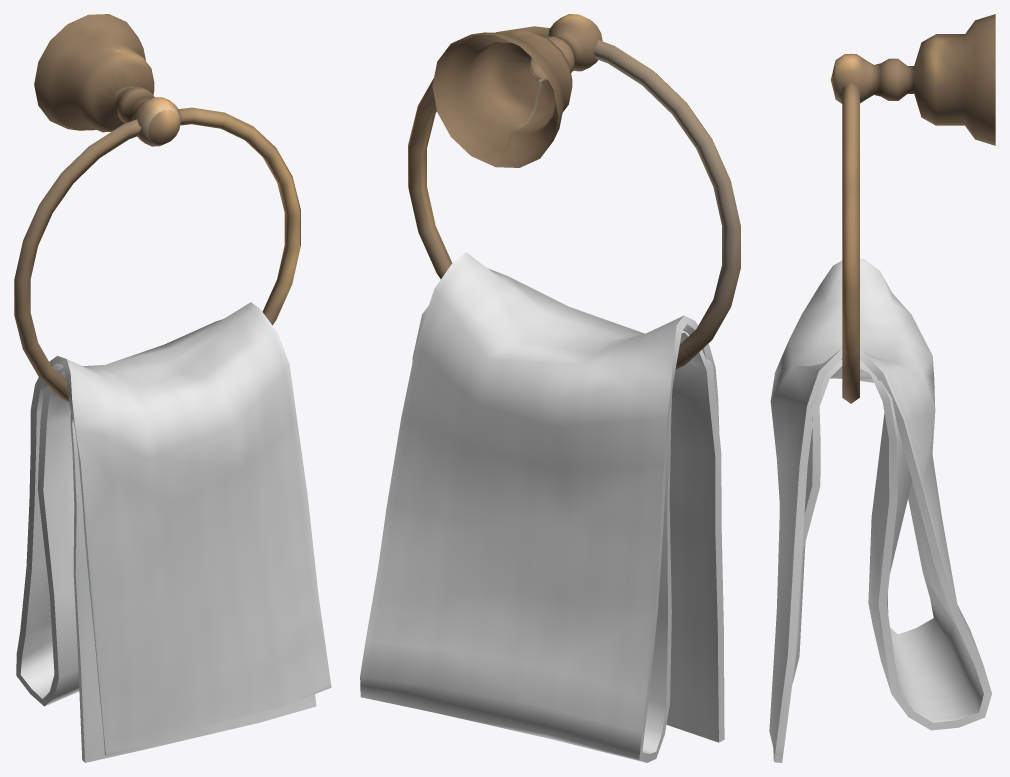
The model's file is To_TowelHanging.FBX.
3 views of the same model, side by side, from view 1: azimuth 30°, elevation 25°; view 2: azimuth 150°, elevation 25°; view 3: azimuth 270°, elevation 25° (orthographic). The views are drawn at different scales.
Parts seen in each view (by area): view 1: To_TowelHanging; view 2: To_TowelHanging; view 3: To_TowelHanging.
Part boxes in pixels (box(x1,y1,x2,y2)): To_TowelHanging: box(14, 14, 331, 762); To_TowelHanging: box(360, 14, 740, 762); To_TowelHanging: box(769, 14, 995, 762).
Bounding box in the file's own units: 20.15 × 43.9 × 13.09.
